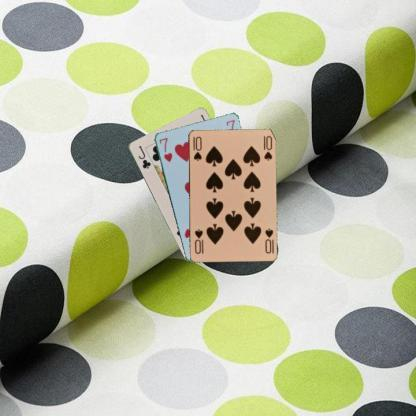10s: (262, 225, 274, 254), (190, 134, 202, 162)
7h: (156, 135, 173, 163)
Jc: (136, 143, 152, 170)
